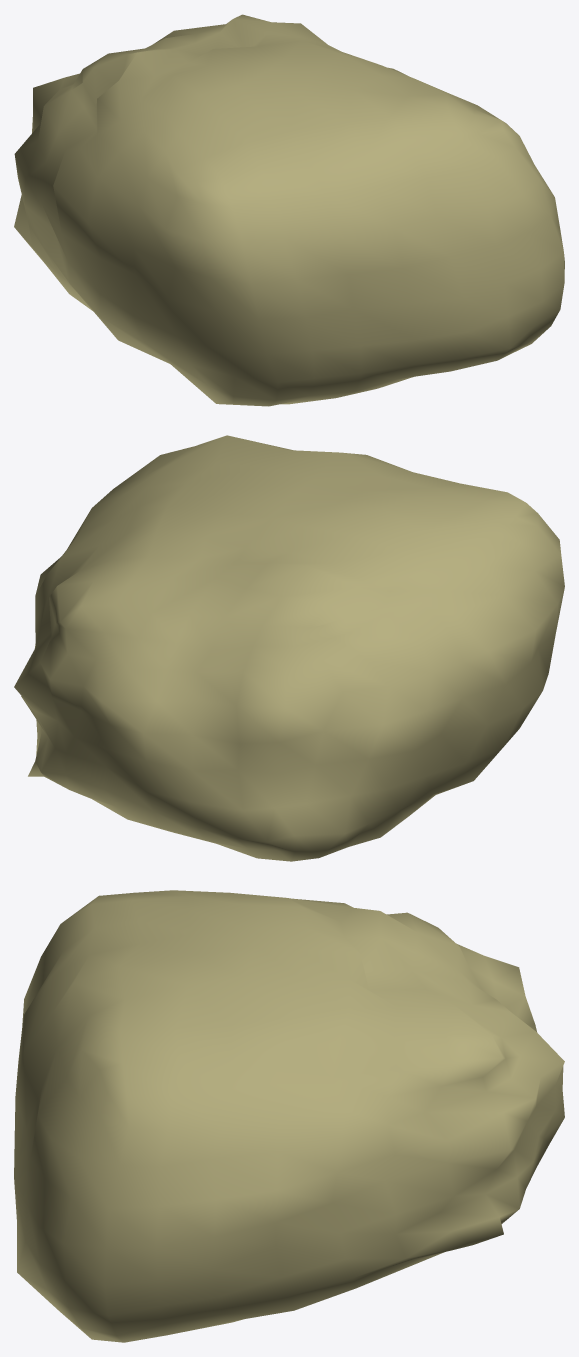
File: Stone.fbx
3 views of the same model, one above another, from view 1: azimuth 30°, elevation 25°; view 2: azimuth 150°, elevation 25°; view 3: azimuth 270°, elevation 25° (orthographic). The views are drawn at different scales.
Parts seen in each view (by area): view 1: Stein; view 2: Stein; view 3: Stein.
Part boxes in pixels (box(x1,y1,x2,y2)): Stein: box(14, 14, 564, 406); Stein: box(14, 435, 564, 861); Stein: box(14, 890, 564, 1342).
Bounding box in the file's own units: 34.62 × 21.31 × 34.5.
